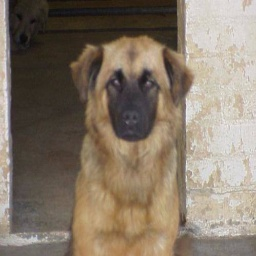dog: (60, 35, 192, 256)
